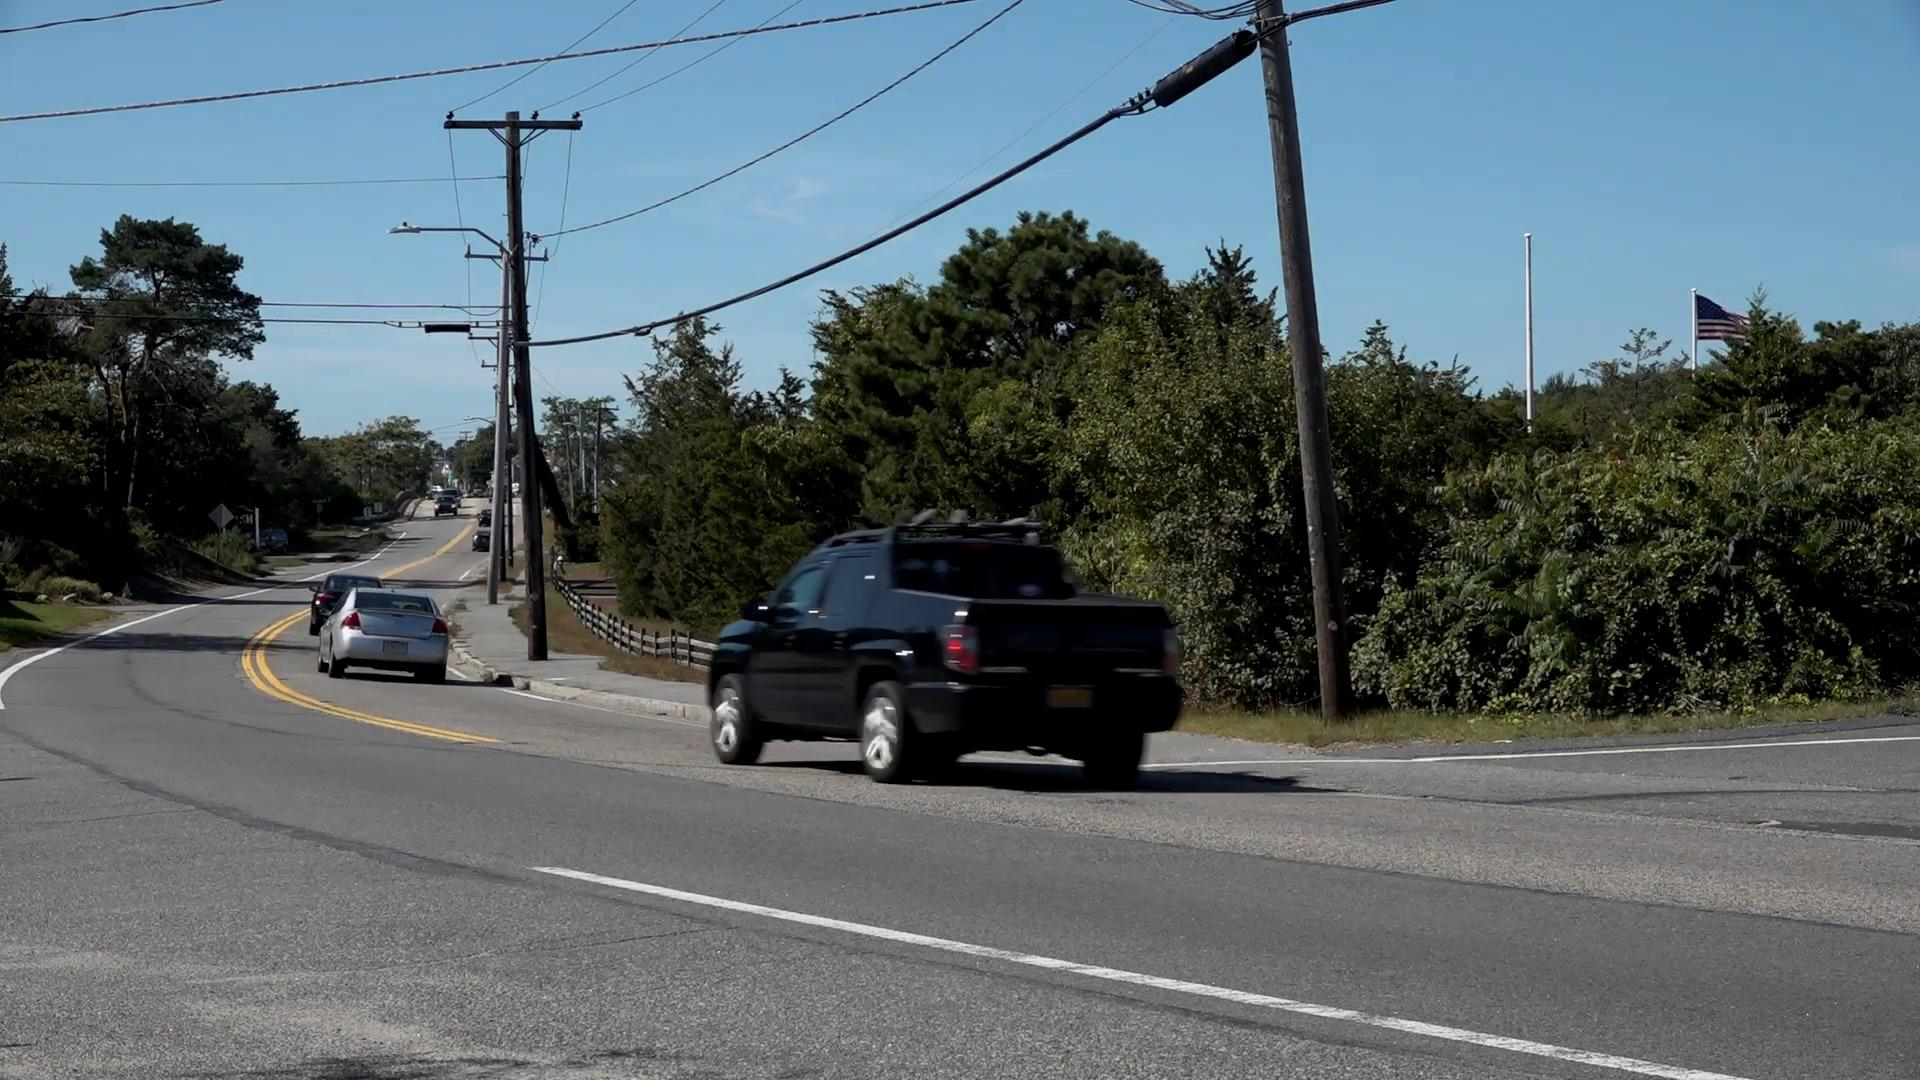pickup: (717, 538, 1164, 781)
suv: (323, 589, 452, 687)
